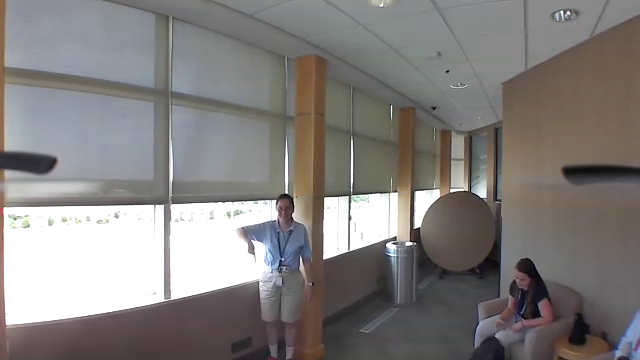down: (238, 238, 262, 264)
